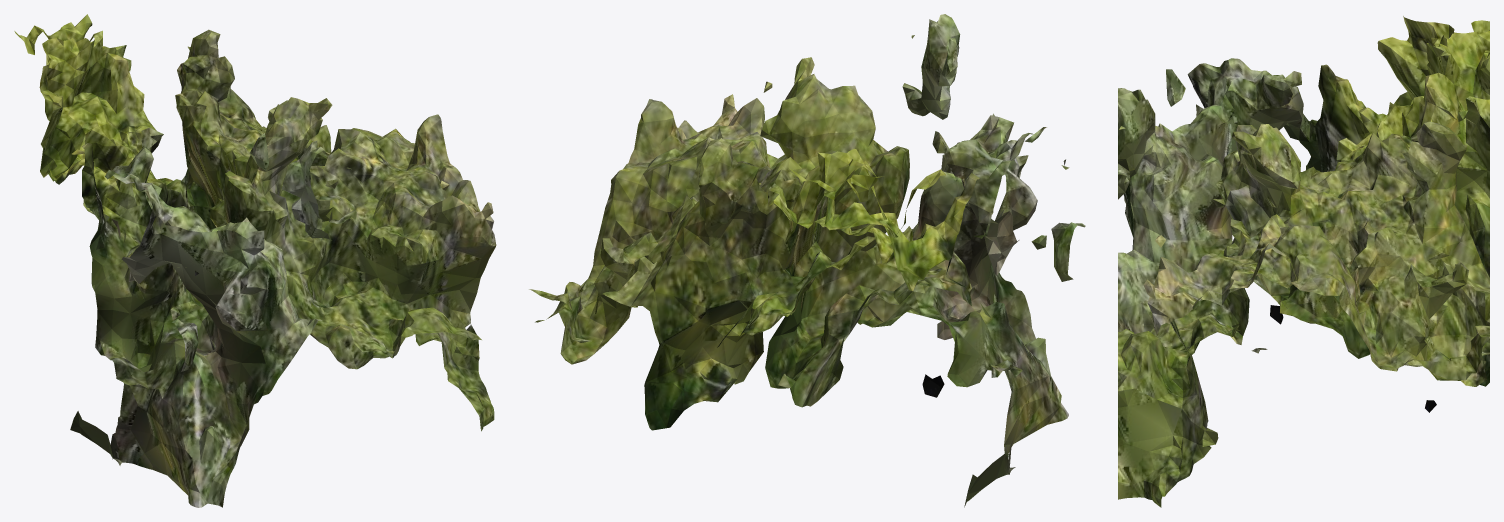
The picture shows the model from 3 angles, left to right: view 1: azimuth 30°, elevation 25°; view 2: azimuth 150°, elevation 25°; view 3: azimuth 270°, elevation 25°; orthographic projection. The views are drawn at different scales.
Size of the model in its own units: 2.95 by 2.95 by 2.95.
8 materials, 8 textured.
